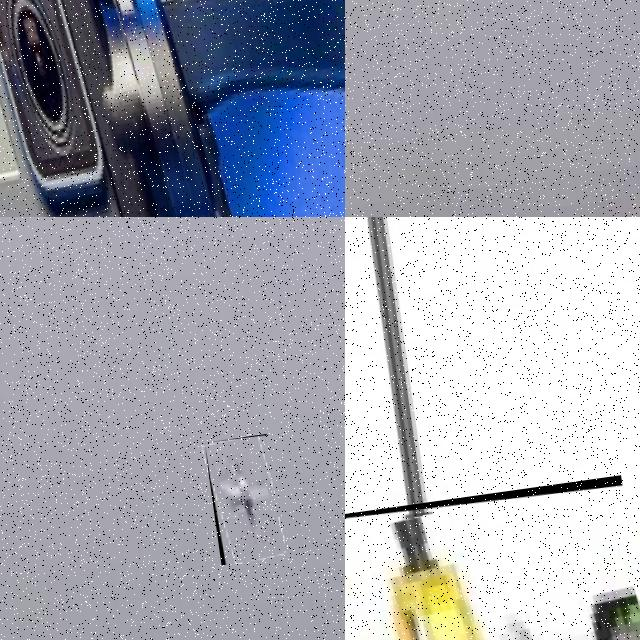drone: (0, 0, 345, 217), (345, 475, 640, 640), (204, 434, 284, 566)
